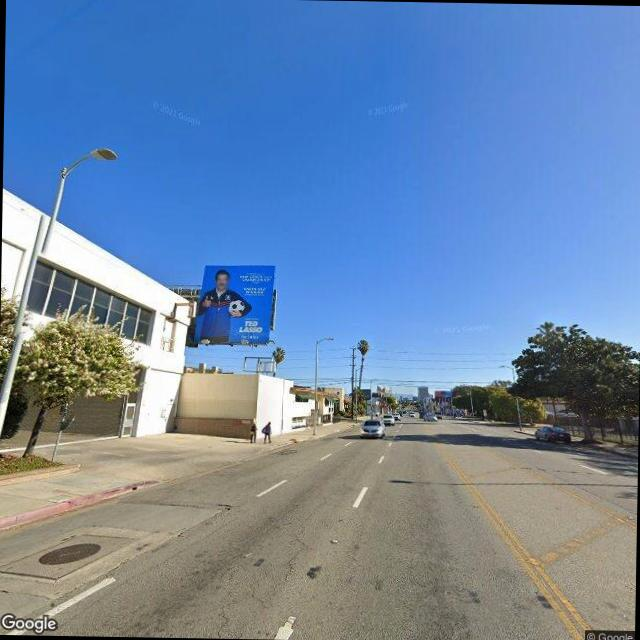pothole: (278, 524, 312, 585)
